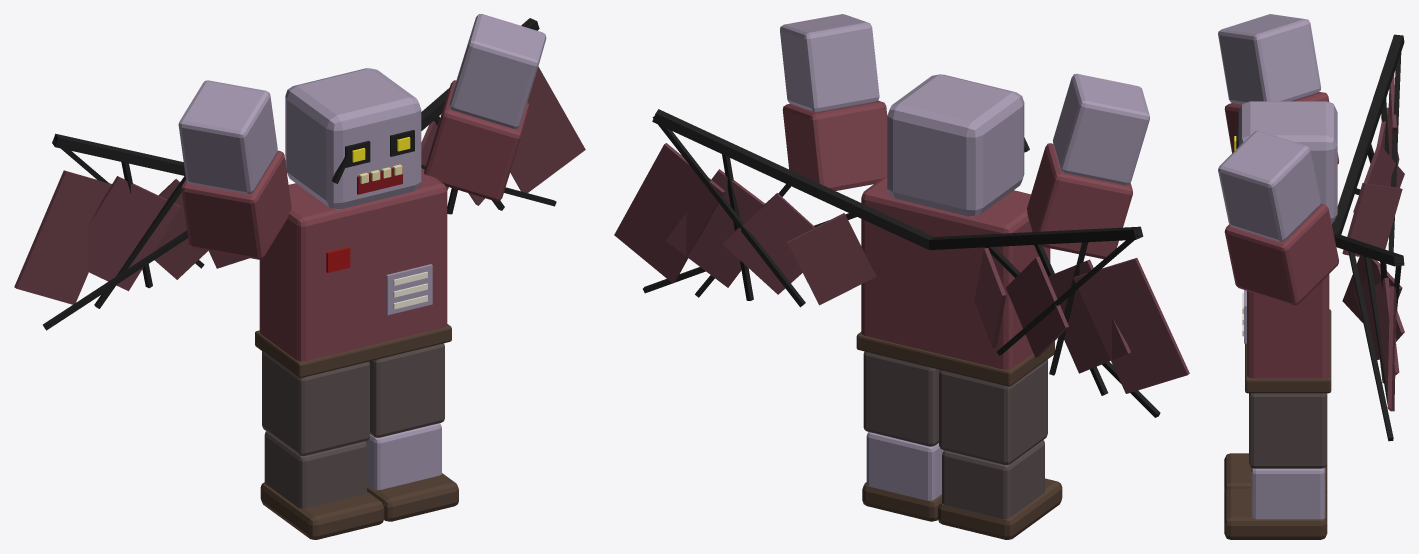
File: zombi_alado.obj
3 renders of one model, left to right at view 1: azimuth 30°, elevation 25°; view 2: azimuth 150°, elevation 25°; view 3: azimuth 270°, elevation 25°, orthographic. The views are drawn at different scales.
Parts seen in each view (by area): view 1: Torso, LeftLeg, Head, LeftArm, RightArm, RightLeg; view 2: Torso, LeftLeg, Head, RightArm, LeftArm, RightLeg; view 3: Torso, RightArm, RightLeg, LeftArm, Head, LeftLeg.
Part boxes in pixels (x1=…): Torso: x1=14, y1=18, x2=585, y2=377; LeftLeg: x1=260, y1=351, x2=384, y2=539; Head: x1=285, y1=68, x2=421, y2=209; LeftArm: x1=178, y1=80, x2=291, y2=259; RightArm: x1=424, y1=14, x2=546, y2=201; RightLeg: x1=365, y1=343, x2=458, y2=521; Torso: x1=614, y1=109, x2=1189, y2=417; LeftLeg: x1=938, y1=359, x2=1062, y2=539; Head: x1=887, y1=74, x2=1029, y2=216; RightArm: x1=780, y1=14, x2=887, y2=190; LeftArm: x1=1027, y1=73, x2=1149, y2=259; RightLeg: x1=862, y1=351, x2=943, y2=521; Torso: x1=1242, y1=34, x2=1404, y2=441; RightArm: x1=1218, y1=130, x2=1338, y2=305; RightLeg: x1=1224, y1=393, x2=1327, y2=539; LeftArm: x1=1218, y1=14, x2=1338, y2=164; Head: x1=1234, y1=101, x2=1337, y2=223; LeftLeg: x1=1224, y1=453, x2=1327, y2=493.
Size of the model in its own units: 7.6 by 5.7 by 2.27.
Materials: 1 (1 with a texture image).
